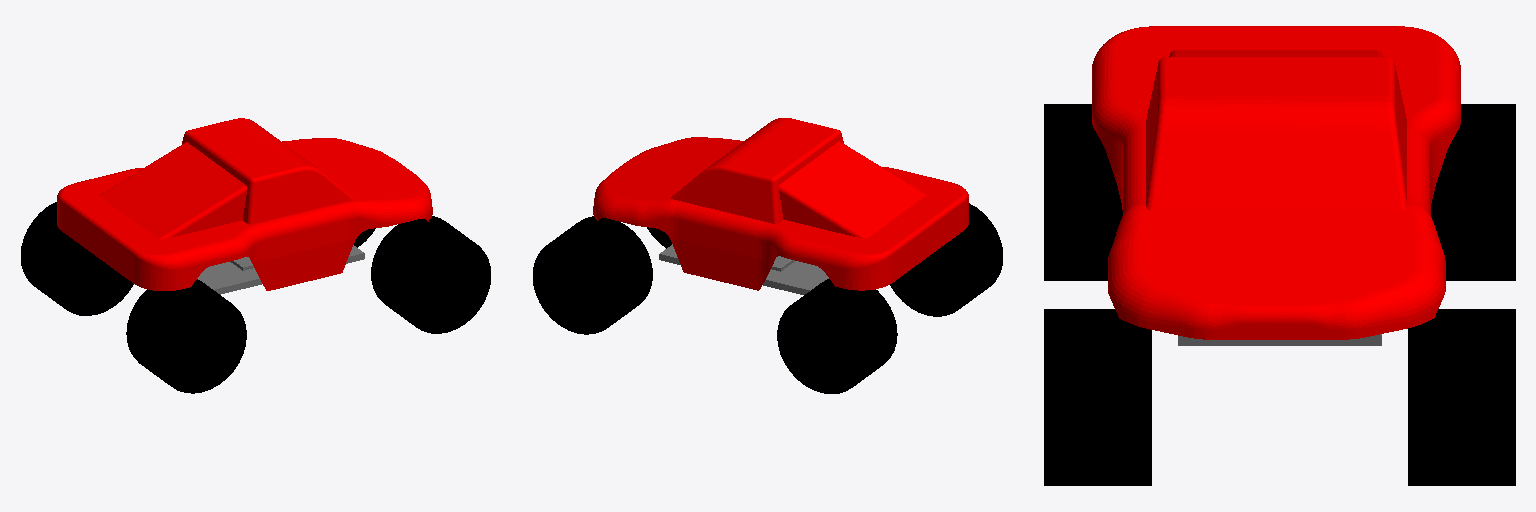
The robot description file, URDF, robot "em_3905":
<?xml version="1.0" ?>

<robot name="em_3905" xmlns:xacro="http://ros.org/wiki/xacro">


  <material name="chassis_mat">
    <color rgba="0.5 0.5 0.5 1"/>
  </material>
  <material name="body_mat">
    <color rgba="1 0 0 1"/>
  </material>
  <material name="tire_mat">
    <color rgba="0 0 0 1"/>
  </material>
  
  <link name="base_link">
    <visual>
      <geometry>
        <box size="0.1 0.1 0.01"/>
      </geometry>
      <material name="chassis_mat"/>
    </visual>
  </link>
  <gazebo reference="base_link">
    <material>Gazebo/Grey</material>
  </gazebo>
  <!-- Chassis -->
  <link name="chassis">
    <visual>
      <origin xyz="0 0 -0.005"/>
      <geometry>
        <box size="0.258 0.168 0.01"/>
      </geometry>
      <material name="chassis_mat"/>
    </visual>
    <collision>
      <origin xyz="0 0 -0.005"/>
      <geometry>
        <box size="0.258 0.168 0.01"/>
      </geometry>
    </collision>
    <inertial>
      <origin xyz="0 0 -0.005"/>
      <mass value="0.2788"/>
      <inertia ixx="0.000658060933333" ixy="0" ixz="0" iyy="0.00154882693333" iyz="0" izz="0.0022022412"/>
    </inertial>
  </link>
  <gazebo reference="chassis">
    <material>Gazebo/Grey</material>
  </gazebo>
  <joint name="base_link_to_chasis" type="fixed">
    <parent link="base_link"/>
    <child link="chassis"/>
  </joint>

  <!-- body -->
  <link name="body">
    <visual>
      <origin rpy="1.57 0 -1.57" xyz="0.25 0.15 0.0"/>
      <geometry>
        <mesh filename="package://ackermann_vehicle_description/urdf/meshes/body.stl"/>
      </geometry>
      <material name="body_mat"/>
    </visual>
  </link>
  <gazebo reference="body">
    <material>Gazebo/Red</material>
  </gazebo>
  <joint name="chasis_link_to_body" type="fixed">
    <parent link="chassis"/>
    <child link="body"/>
  </joint>


  <!-- Wheels -->
  <joint name="left_front_shock" type="fixed">
    <parent link="chassis"/>
    <child link="left_steering_link"/>
    <origin xyz="0.2                    0.15                    -0.0235"/>
    <axis xyz="0 0 -1"/>
    <!-- <limit effort="12.5106" lower="-0.042" upper="0.042" velocity="1000"/> -->
  </joint>

  <link name="left_steering_link">
    <inertial>
      <mass value="0.001"/>
      <inertia ixx="0.001" ixy="0" ixz="0" iyy="0.001" iyz="0" izz="0.001"/>
    </inertial>
  </link>
  <joint name="left_steering_joint" type="fixed">
    <parent link="left_steering_link"/>
    <child link="left_front_axle_carrier"/>
    <axis xyz="0 0 1"/>
    <!-- <limit effort="0.5649" lower="-0.785398163" upper="0.785398163" velocity="4.553"/> -->
  </joint>

  <link name="left_front_axle_carrier">
    <inertial>
      <mass value="0.001"/>
      <inertia ixx="0.001" ixy="0" ixz="0" iyy="0.001" iyz="0" izz="0.001"/>
    </inertial>
  </link>
  <!-- The left and right axles have the same axis so that identical
         rotation values cause the wheels to rotate in the same direction. -->
  <joint name="left_front_axle" type="fixed">
    <parent link="left_front_axle_carrier"/>
    <child link="left_front_wheel"/>
    <origin rpy="1.57079633 0 0"/>
    <axis xyz="0 0 -1"/>
  </joint>

  <link name="left_front_wheel">
    <visual>
      <origin xyz="0                      -6.93889390391e-18                      0"/>
      <geometry>
        <cylinder length="0.0889" radius="0.073025"/>
      </geometry>
      <material name="tire_mat"/>
    </visual>
    <collision>
      <origin xyz="0                      -6.93889390391e-18                      0"/>
      <geometry>
        <cylinder length="0.0889" radius="0.073025"/>
      </geometry>
    </collision>
    <inertial>
      <mass value="0.029"/>
      <inertia ixx="0.0000746465912979" ixy="0" ixz="0" iyy="0.0000746465912979" iyz="0" izz="0.000111094334263"/>
    </inertial>
  </link>
  <gazebo reference="left_front_wheel">
    <material>Gazebo/Black</material>
  </gazebo>
  <joint name="right_front_shock" type="fixed">
    <parent link="chassis"/>
    <child link="right_steering_link"/>
    <origin xyz="0.2                    -0.15                    -0.0235"/>
    <axis xyz="0 0 -1"/>
    <limit effort="12.5106" lower="-0.042" upper="0.042" velocity="1000"/>
  </joint>

  <link name="right_steering_link">
    <inertial>
      <mass value="0.001"/>
      <inertia ixx="0.001" ixy="0" ixz="0" iyy="0.001" iyz="0" izz="0.001"/>
    </inertial>
  </link>
  <joint name="right_steering_joint" type="fixed">
    <parent link="right_steering_link"/>
    <child link="right_front_axle_carrier"/>
    <axis xyz="0 0 1"/>
    <limit effort="0.5649" lower="-0.785398163" upper="0.785398163" velocity="4.553"/>
  </joint>
 
  <link name="right_front_axle_carrier">
    <inertial>
      <mass value="0.001"/>
      <inertia ixx="0.001" ixy="0" ixz="0" iyy="0.001" iyz="0" izz="0.001"/>
    </inertial>
  </link>


  <joint name="right_front_axle" type="fixed">
    <parent link="right_front_axle_carrier"/>
    <child link="right_front_wheel"/>
    <origin rpy="1.57079633 0 0"/>
    <axis xyz="0 0 -1"/>
  </joint>

  <link name="right_front_wheel">
    <visual>
      <origin xyz="0                      6.93889390391e-18                      0"/>
      <geometry>
        <cylinder length="0.0889" radius="0.073025"/>
      </geometry>
      <material name="tire_mat"/>
    </visual>
    <collision>
      <origin xyz="0                      6.93889390391e-18                      0"/>
      <geometry>
        <cylinder length="0.0889" radius="0.073025"/>
      </geometry>
    </collision>
    <inertial>
      <mass value="0.029"/>
      <inertia ixx="0.0000746465912979" ixy="0" ixz="0" iyy="0.0000746465912979" iyz="0" izz="0.000111094334263"/>
    </inertial>
  </link>
  <gazebo reference="right_front_wheel">
    <material>Gazebo/Black</material>
  </gazebo>
  <joint name="left_rear_shock" type="fixed">
    <parent link="chassis"/>
    <child link="left_rear_axle_carrier"/>
    <origin xyz="-0.2                    0.15                    -0.0235"/>
    <axis xyz="0 0 -1"/>
  </joint>

  <link name="left_rear_axle_carrier">
    <inertial>
      <mass value="0.001"/>
      <inertia ixx="0.001" ixy="0" ixz="0" iyy="0.001" iyz="0" izz="0.001"/>
    </inertial>
  </link>

  <joint name="left_rear_axle" type="fixed">
    <parent link="left_rear_axle_carrier"/>
    <child link="left_rear_wheel"/>
    <origin rpy="1.57079633 0 0"/>
    <axis xyz="0 0 -1"/>
  </joint>

  <link name="left_rear_wheel">
    <visual>
      <origin xyz="0                      -6.93889390391e-18                      0"/>
      <geometry>
        <cylinder length="0.0889" radius="0.073025"/>
      </geometry>
      <material name="tire_mat"/>
    </visual>
    <collision>
      <origin xyz="0                      -6.93889390391e-18                      0"/>
      <geometry>
        <cylinder length="0.0889" radius="0.073025"/>
      </geometry>
    </collision>
    <inertial>
      <mass value="0.029"/>
      <inertia ixx="0.0000746465912979" ixy="0" ixz="0" iyy="0.0000746465912979" iyz="0" izz="0.000111094334263"/>
    </inertial>
  </link>
  <gazebo reference="left_rear_wheel">
    <material>Gazebo/Black</material>
  </gazebo>
  <joint name="right_rear_shock" type="fixed">
    <parent link="chassis"/>
    <child link="right_rear_axle_carrier"/>
    <origin xyz="-0.2                    -0.15                    -0.0235"/>
    <axis xyz="0 0 -1"/>
  </joint>

  <link name="right_rear_axle_carrier">
    <inertial>
      <mass value="0.001"/>
      <inertia ixx="0.001" ixy="0" ixz="0" iyy="0.001" iyz="0" izz="0.001"/>
    </inertial>
  </link>

  <joint name="right_rear_axle" type="fixed">
    <parent link="right_rear_axle_carrier"/>
    <child link="right_rear_wheel"/>
    <origin rpy="1.57079633 0 0"/>
    <axis xyz="0 0 -1"/>
  </joint>

  <link name="right_rear_wheel">
    <visual>
      <origin xyz="0                      6.93889390391e-18                      0"/>
      <geometry>
        <cylinder length="0.0889" radius="0.073025"/>
      </geometry>
      <material name="tire_mat"/>
    </visual>
    <collision>
      <origin xyz="0                      6.93889390391e-18                      0"/>
      <geometry>
        <cylinder length="0.0889" radius="0.073025"/>
      </geometry>
    </collision>
    <inertial>
      <mass value="0.029"/>
      <inertia ixx="0.0000746465912979" ixy="0" ixz="0" iyy="0.0000746465912979" iyz="0" izz="0.000111094334263"/>
    </inertial>
  </link>
  <gazebo reference="right_rear_wheel">
    <material>Gazebo/Black</material>
  </gazebo>

</robot>

--- Render facts (derived) ---
Views: 3 orthographic renders of the robot side by side, from view 1: azimuth 30°, elevation 25°; view 2: azimuth 150°, elevation 25°; view 3: azimuth 270°, elevation 25°.
Model em_3905 with 13 links and 12 joints (12 fixed), rooted at base_link, posed all joints at 0.
Links seen in each view (by area): view 1: body, right_front_wheel, right_rear_wheel, left_rear_wheel, chassis; view 2: body, left_front_wheel, left_rear_wheel, right_rear_wheel, chassis; view 3: body, left_front_wheel, right_front_wheel, left_rear_wheel, right_rear_wheel, chassis.
Boxes of the visible links, box(x1,y1,x2,y2) form: body: box(57, 118, 432, 290); right_front_wheel: box(371, 216, 490, 333); right_rear_wheel: box(126, 279, 246, 393); left_rear_wheel: box(21, 202, 133, 315); chassis: box(197, 245, 364, 294); body: box(593, 118, 968, 290); left_front_wheel: box(533, 216, 652, 334); left_rear_wheel: box(777, 279, 897, 393); right_rear_wheel: box(890, 203, 1002, 316); chassis: box(659, 244, 828, 294); body: box(1092, 26, 1460, 339); left_front_wheel: box(1408, 309, 1515, 485); right_front_wheel: box(1044, 309, 1151, 485); left_rear_wheel: box(1431, 104, 1515, 280); right_rear_wheel: box(1044, 104, 1122, 280); chassis: box(1178, 334, 1381, 345).
Size in the robot's own frame: 0.5461 by 0.3889 by 0.2619 metres.
1 mesh visuals loaded from 1 distinct referenced files (1 binary STL).